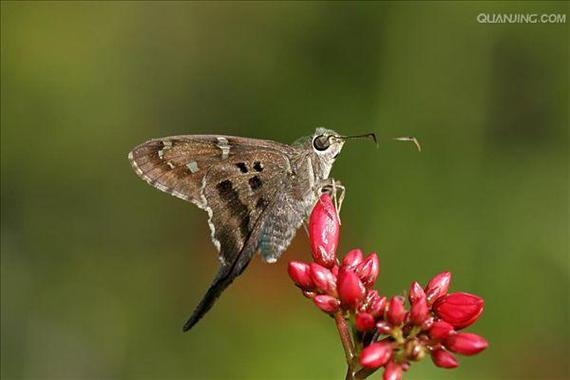Hesperiidae: (126, 119, 429, 335)
